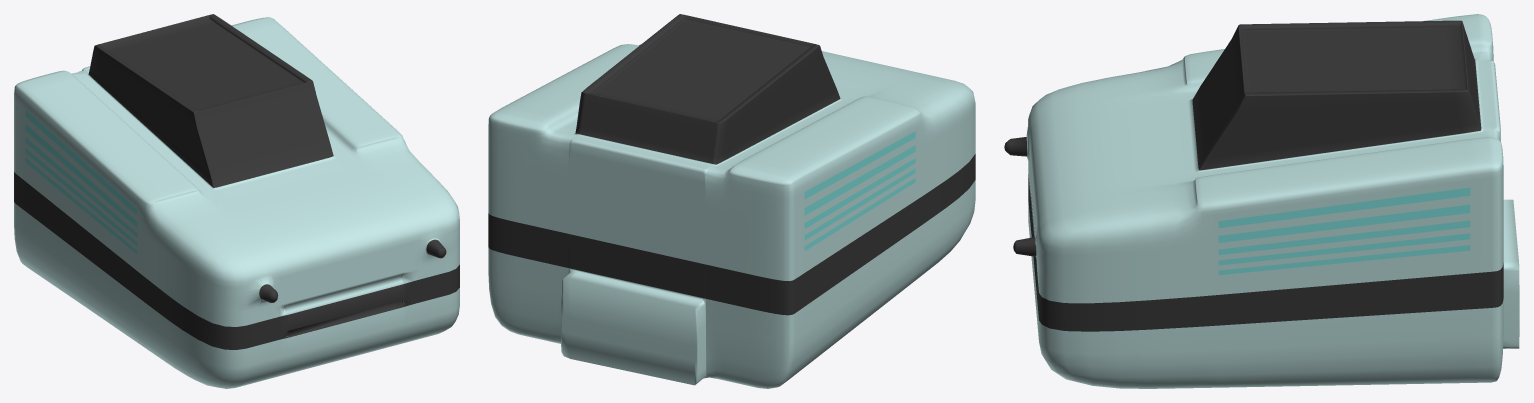
The model's file is small_base.fbx.
The picture shows the model from 3 angles, left to right: view 1: azimuth 30°, elevation 25°; view 2: azimuth 150°, elevation 25°; view 3: azimuth 270°, elevation 25°; orthographic projection. The views are drawn at different scales.
Parts seen in each view (by area): view 1: pCube1; view 2: pCube1; view 3: pCube1.
Part boxes in pixels (box(x1,y1,x2,y2)): pCube1: box(14, 14, 459, 388); pCube1: box(488, 14, 975, 388); pCube1: box(1004, 14, 1519, 388).
Bounding box in the file's own units: 10.58 × 8.06 × 14.37.
